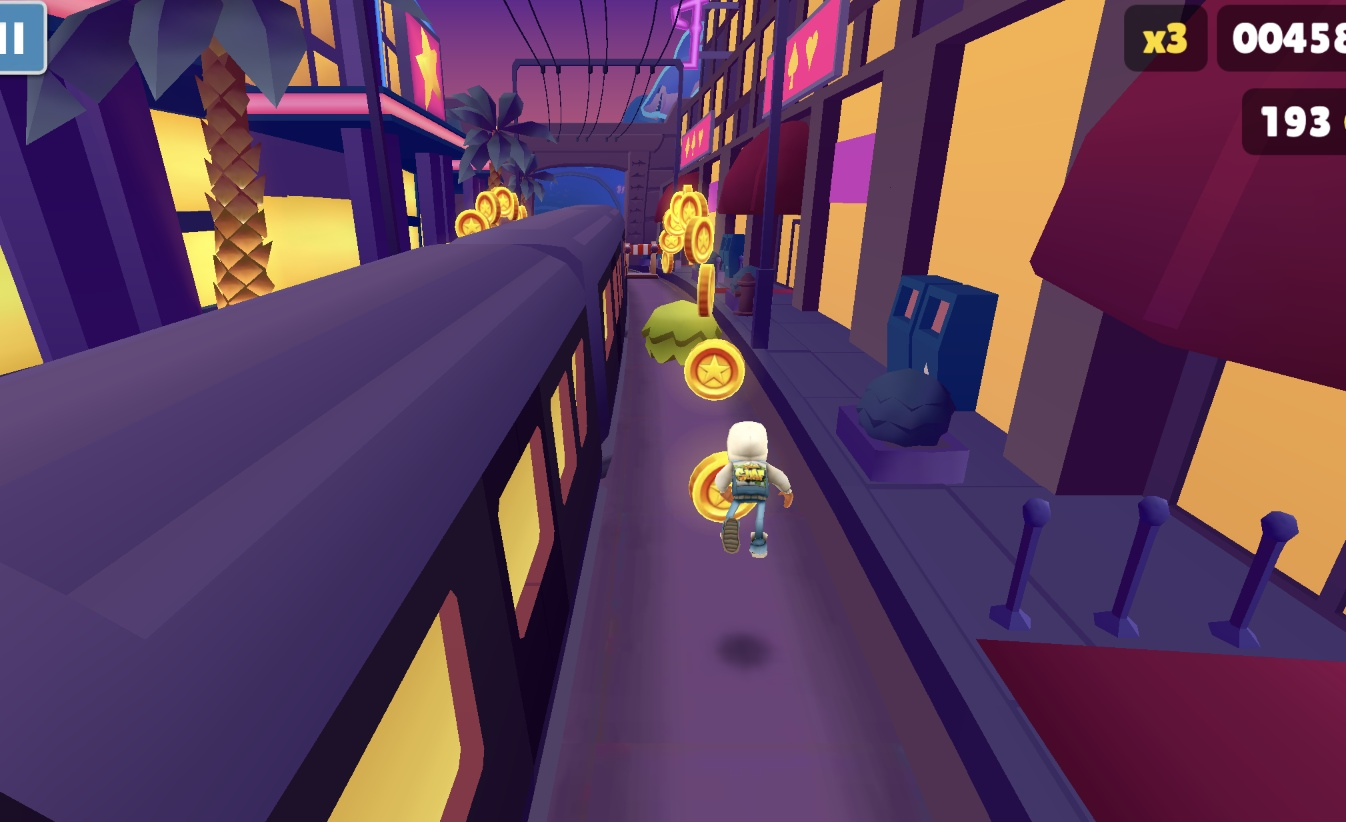bush: (641, 300, 727, 365)
ground_barrier: (624, 244, 658, 279)
train: (0, 204, 626, 822)
